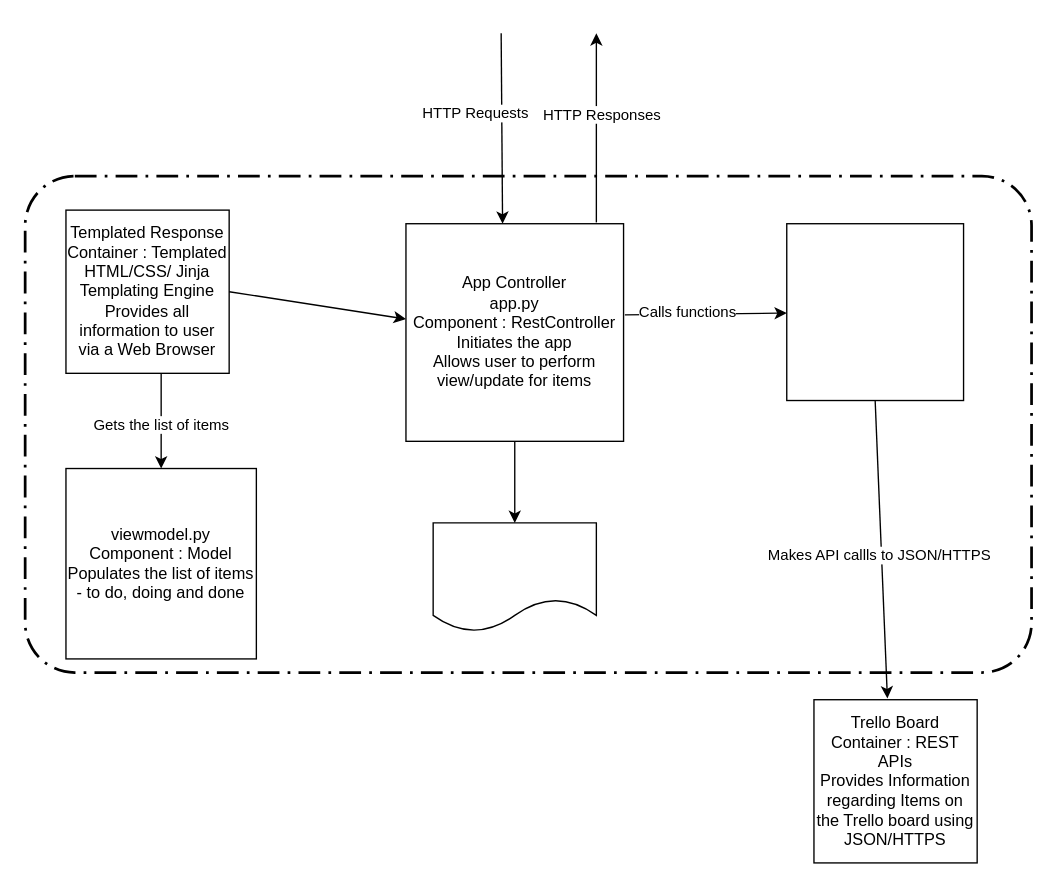
Some shapes in this 1055 by 887 pixel diagram are drawn without their labels. The centre of each missing label's shape, as x and y in pixels:
Config file app_config.py: the point at 514,577
trello_items.py Makes the calls to the REST endpoints of the Trello API: the point at 874,311
